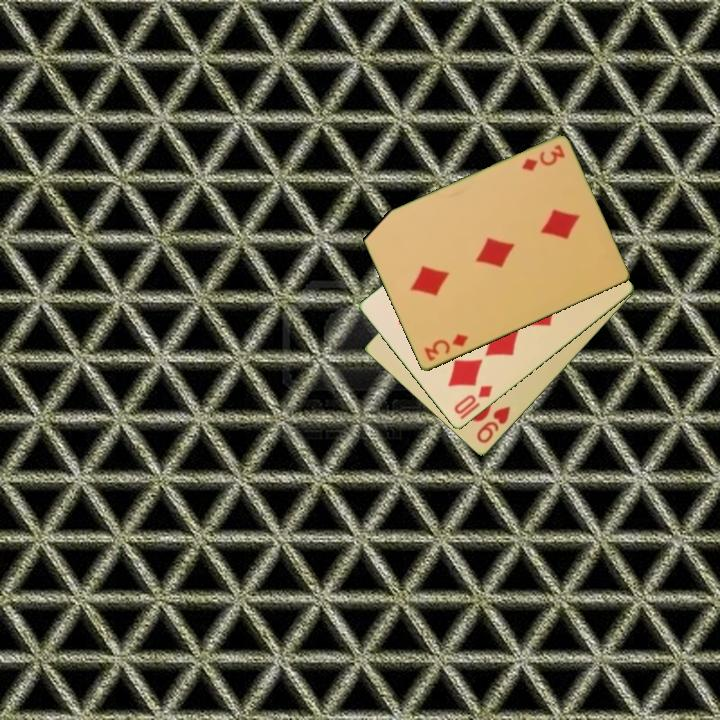10d: (450, 382, 495, 418)
3d: (420, 330, 471, 364), (518, 141, 568, 175)
9h: (473, 403, 514, 447)
